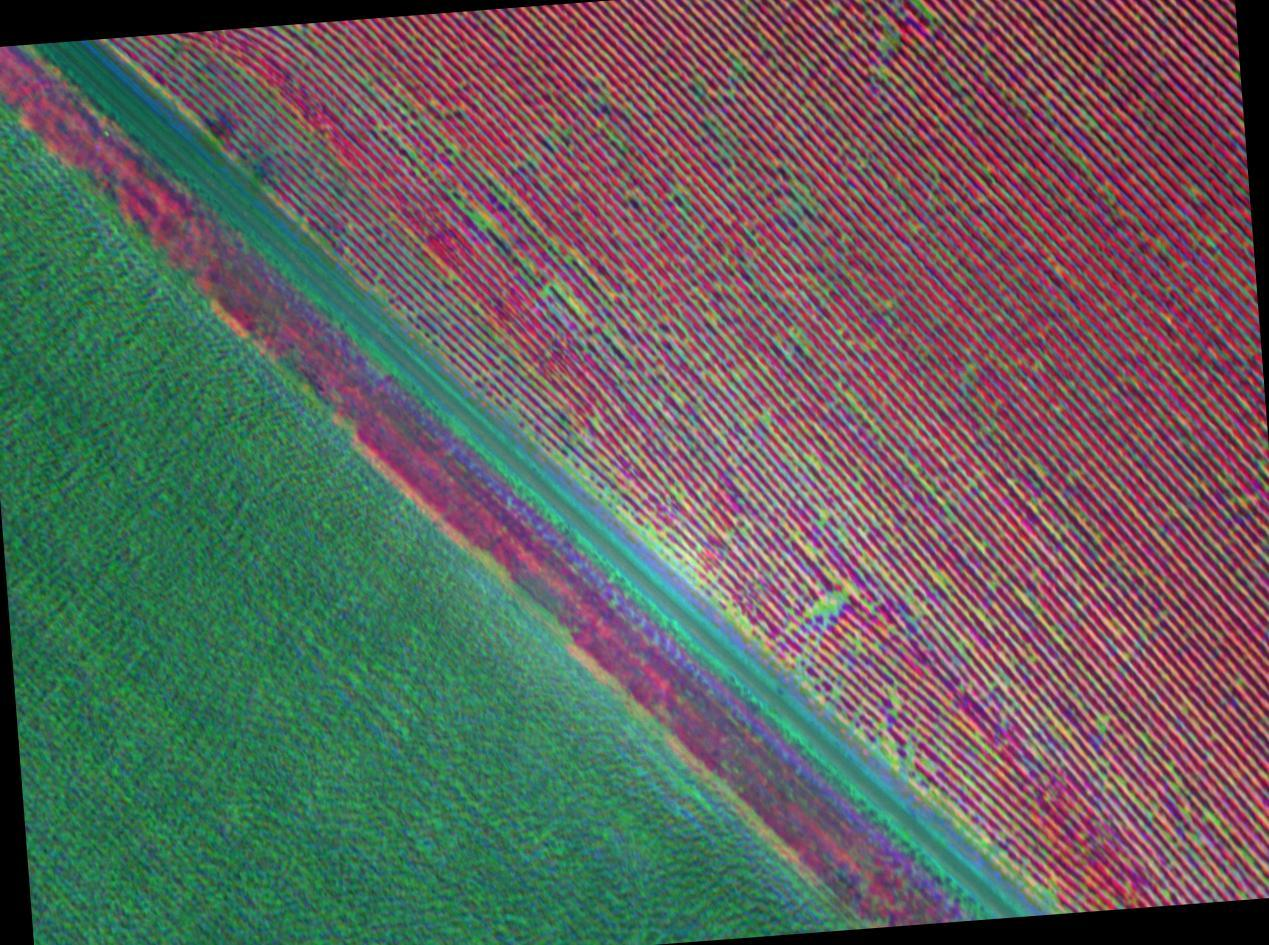dc: (819, 604, 825, 612), (836, 595, 842, 601), (918, 5, 923, 11)
